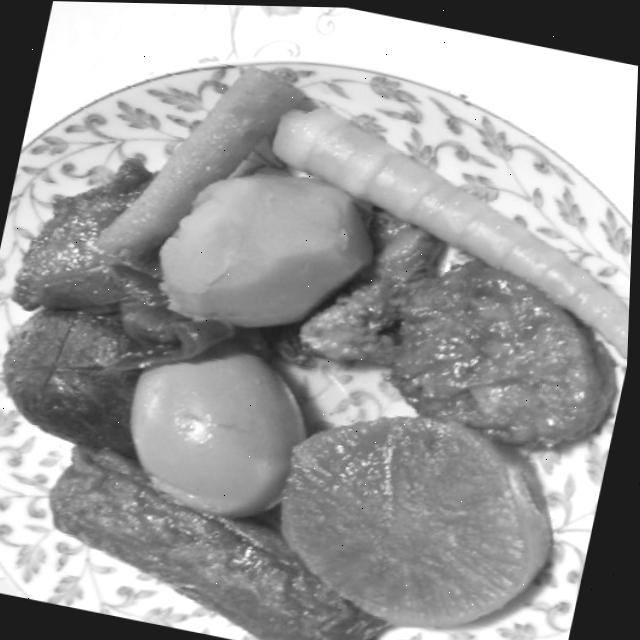汤锅炖物: (0, 26, 639, 640)
